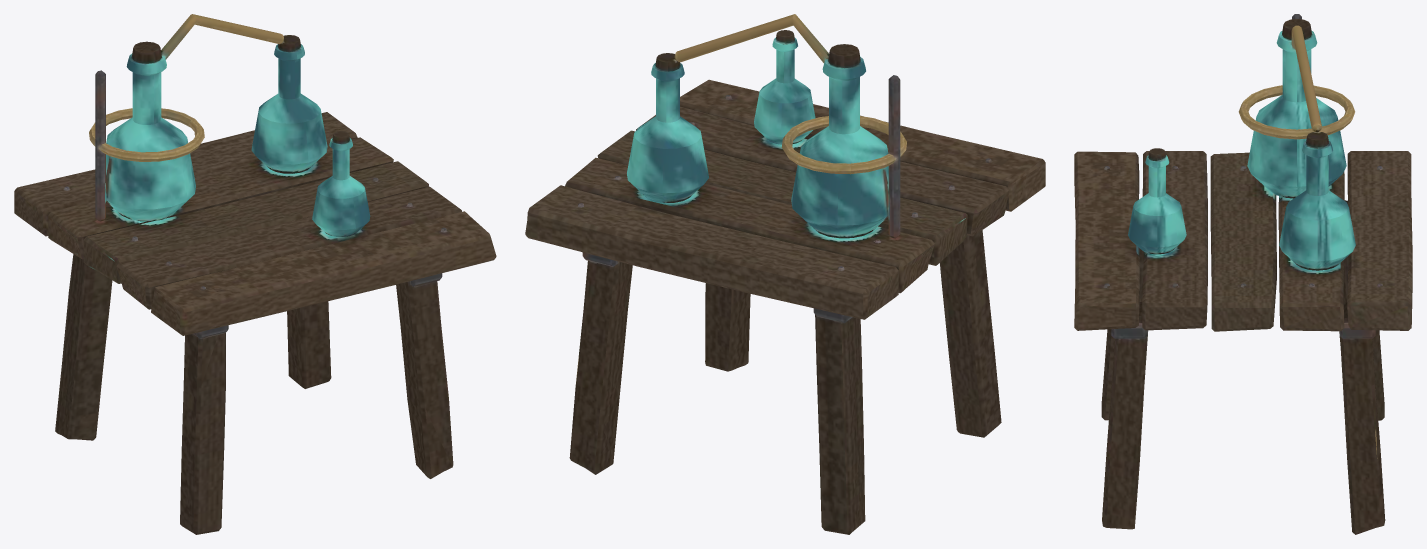
Rendered from alchemy_table.glb.
The picture shows the model from 3 angles, left to right: view 1: azimuth 30°, elevation 25°; view 2: azimuth 150°, elevation 25°; view 3: azimuth 270°, elevation 25°; orthographic projection. The views are drawn at different scales.
Parts seen in each view (by area): view 1: alchemy_table; view 2: alchemy_table; view 3: alchemy_table.
Part boxes in pixels (x1,y1,x2,y2): alchemy_table: [14, 14, 496, 534]; alchemy_table: [525, 14, 1045, 534]; alchemy_table: [1074, 14, 1412, 534].
Bounding box in the file's own units: 0.8951 × 1.16 × 0.8241.
1 material, 1 textured.
